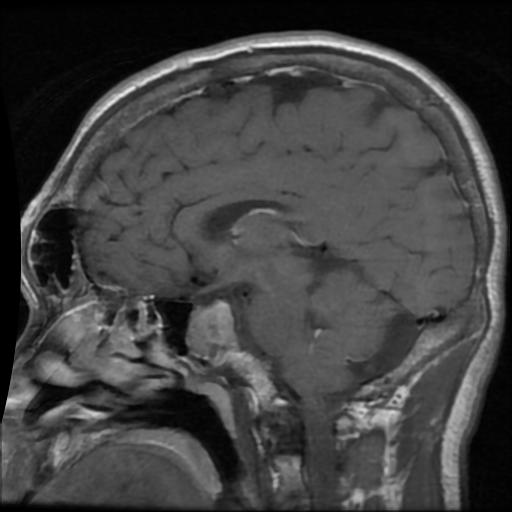Pituirity_tumour: (185, 296, 234, 361)
